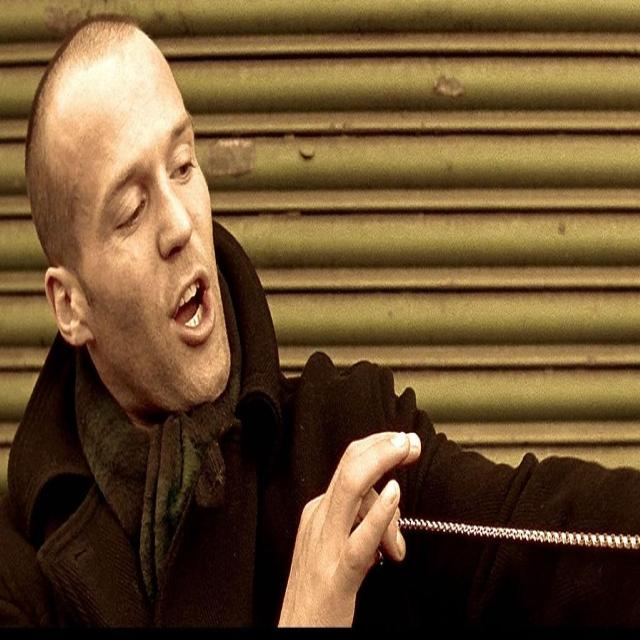smoking: (3, 11, 638, 633)
